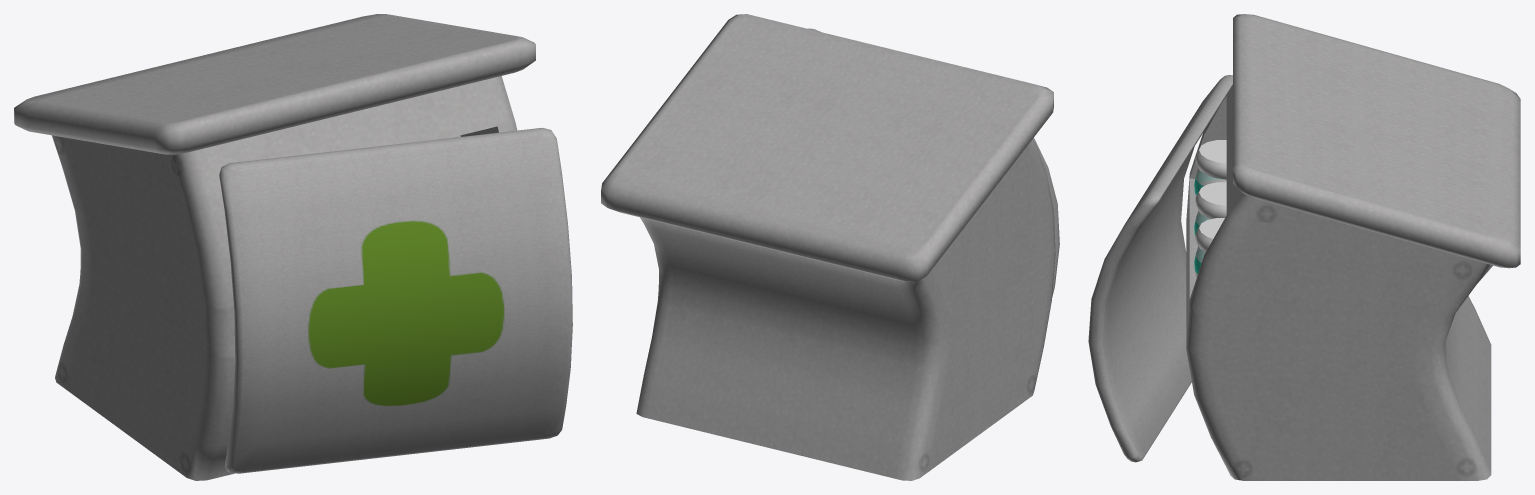
The model's file is Cabinet_OR.glb.
3 views of the same model, side by side, from view 1: azimuth 30°, elevation 25°; view 2: azimuth 150°, elevation 25°; view 3: azimuth 270°, elevation 25° (orthographic). The views are drawn at different scales.
Visible parts, largest first — view 1: Door_R, Base_R; view 2: Base_R, Door_R; view 3: Base_R, Door_R, I_Bottle1Lid, I_Bottle2Lid, I_Bottle3Lid.
Part boxes in pixels (x1=…): Door_R: x1=219, y1=127, x2=572, y2=473; Base_R: x1=14, y1=14, x2=535, y2=480; Base_R: x1=601, y1=14, x2=1055, y2=480; Door_R: x1=808, y1=28, x2=1059, y2=297; Base_R: x1=1186, y1=14, x2=1520, y2=480; Door_R: x1=1088, y1=75, x2=1232, y2=462; I_Bottle1Lid: x1=1195, y1=140, x2=1226, y2=179; I_Bottle2Lid: x1=1195, y1=182, x2=1226, y2=218; I_Bottle3Lid: x1=1195, y1=218, x2=1224, y2=252.
Size of the model in its own units: 1.38 by 1.26 by 1.54.
Materials: 5 (5 with a texture image).
